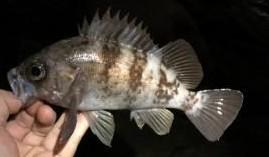fish: (7, 6, 243, 155)
